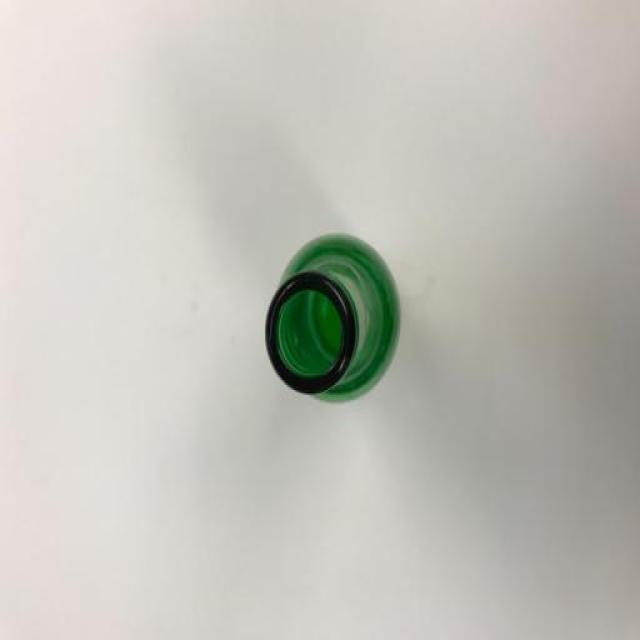Glass: (264, 230, 400, 403)
